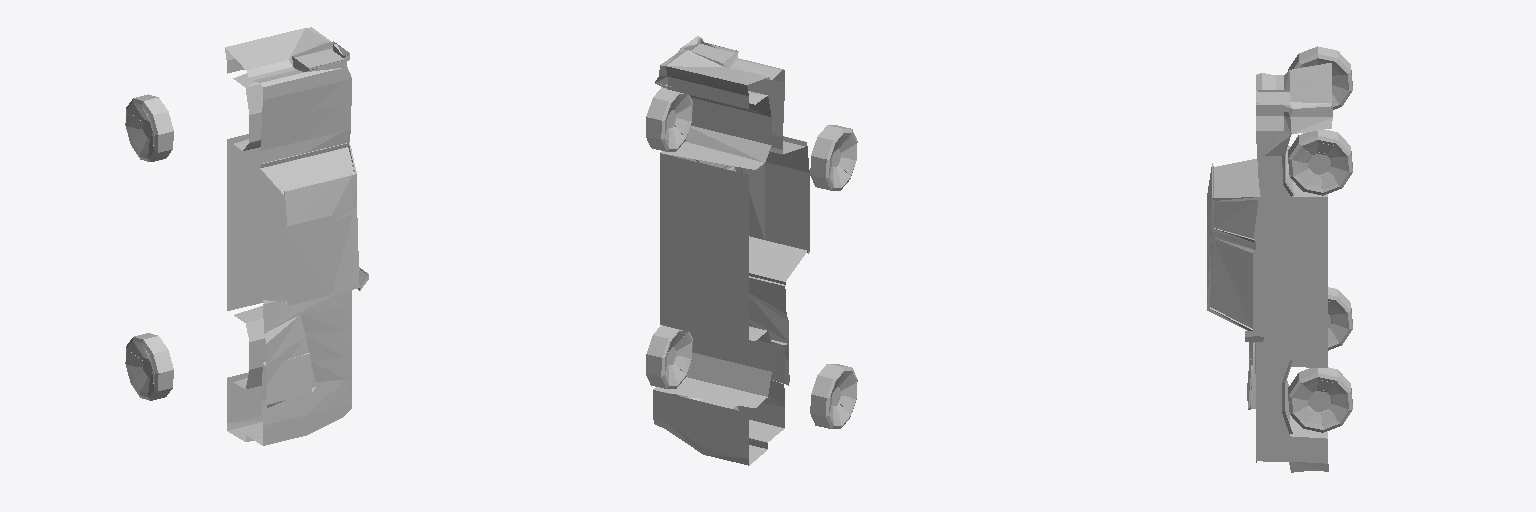
Rendered from autocolor.obj.
3 views of the same model, side by side, from view 1: azimuth 30°, elevation 25°; view 2: azimuth 150°, elevation 25°; view 3: azimuth 270°, elevation 25° (orthographic).
Visible parts, largest first — view 1: Cube; view 2: Cube; view 3: Cube.
Part boxes in pixels (x1,y1,x2,y2): Cube: (125,27,368,445); Cube: (646,36,857,465); Cube: (1207,46,1352,472).
Bounding box in the file's own units: 4.36 × 8.33 × 2.88.